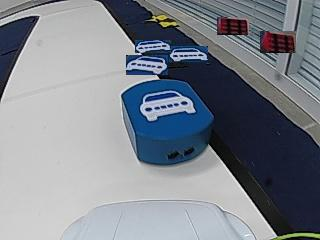safety: (138, 90, 197, 120)
